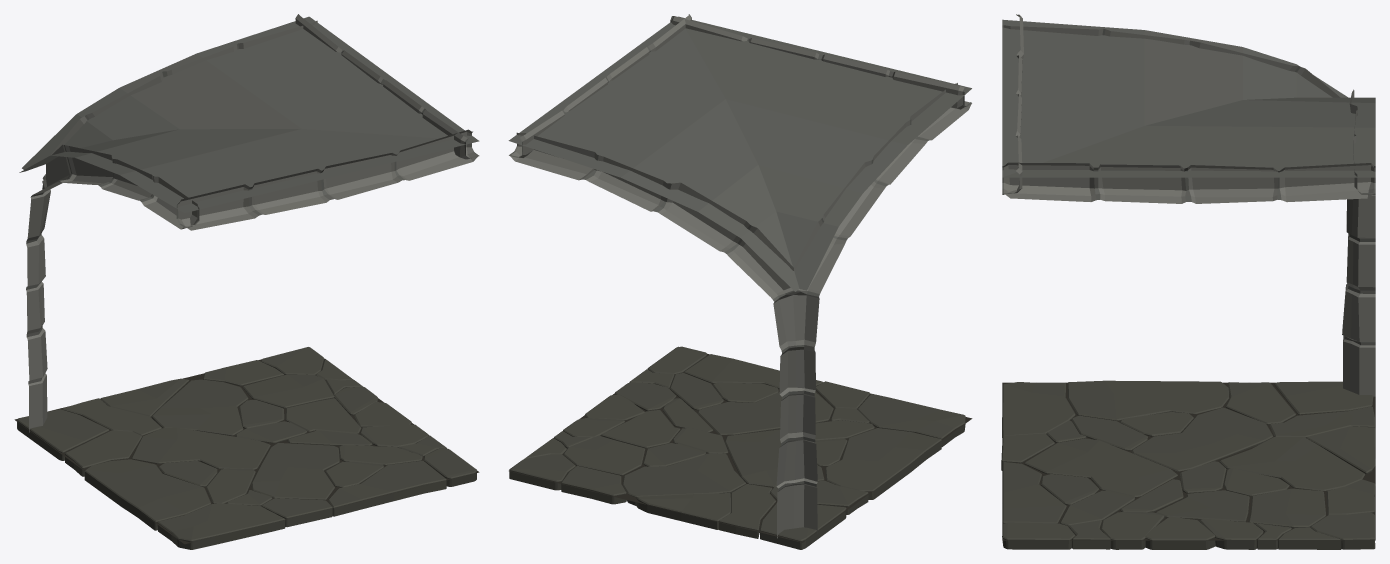
Rendered from Dungeon_Custom_Corner_Inverted.glb.
3 views of the same model, side by side, from view 1: azimuth 30°, elevation 25°; view 2: azimuth 150°, elevation 25°; view 3: azimuth 270°, elevation 25° (orthographic). The views are drawn at different scales.
Visible parts, largest first — view 1: Dungeon_Custom_Corner_Inverted; view 2: Dungeon_Custom_Corner_Inverted; view 3: Dungeon_Custom_Corner_Inverted.
Part boxes in pixels (x1,y1,x2,y2): Dungeon_Custom_Corner_Inverted: (14, 14, 479, 549); Dungeon_Custom_Corner_Inverted: (508, 14, 972, 549); Dungeon_Custom_Corner_Inverted: (1001, 14, 1375, 549).
Size of the model in its own units: 4.02 by 4.49 by 4.01.
2 materials, 2 textured.
